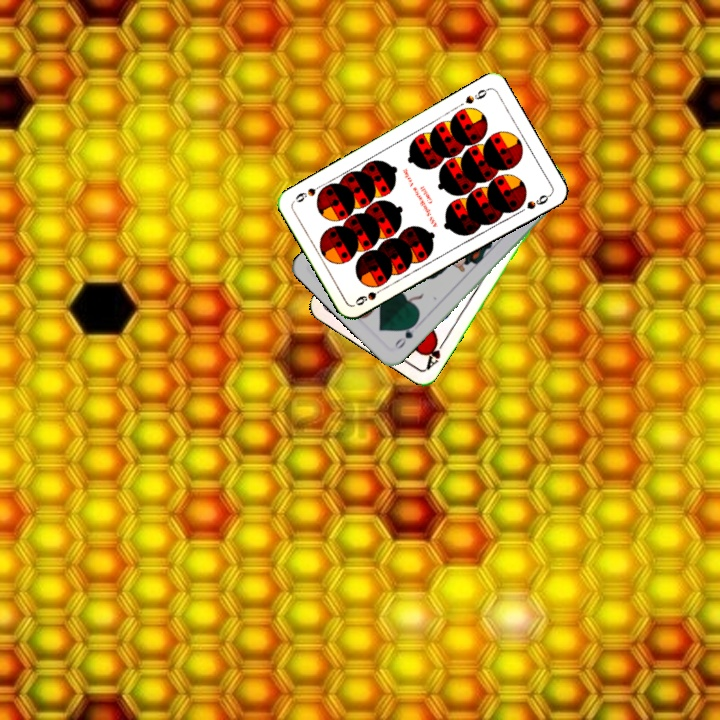GO: (391, 318, 420, 352)
HA: (422, 335, 449, 372)
S9: (351, 283, 388, 308), (461, 84, 491, 107)
